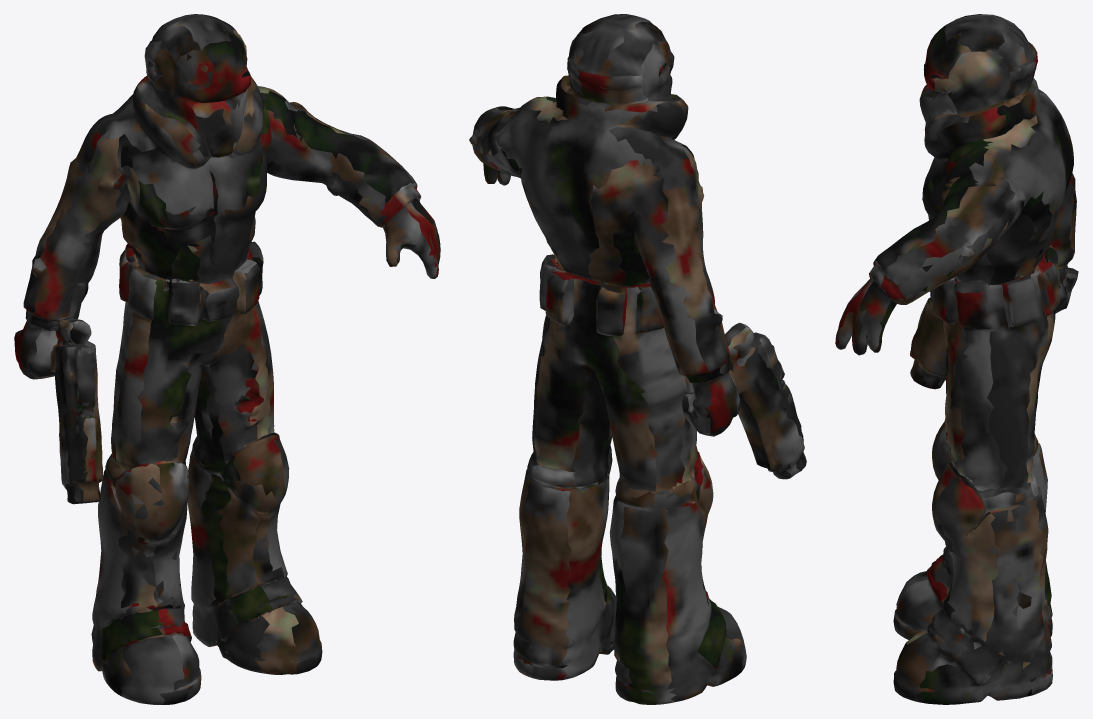
File: POSSA1.obj
The picture shows the model from 3 angles, left to right: view 1: azimuth 30°, elevation 25°; view 2: azimuth 150°, elevation 25°; view 3: azimuth 270°, elevation 25°; orthographic projection.
Bounding box in the file's own units: 0.5641 × 1 × 0.3472.
1 material, 1 textured.
